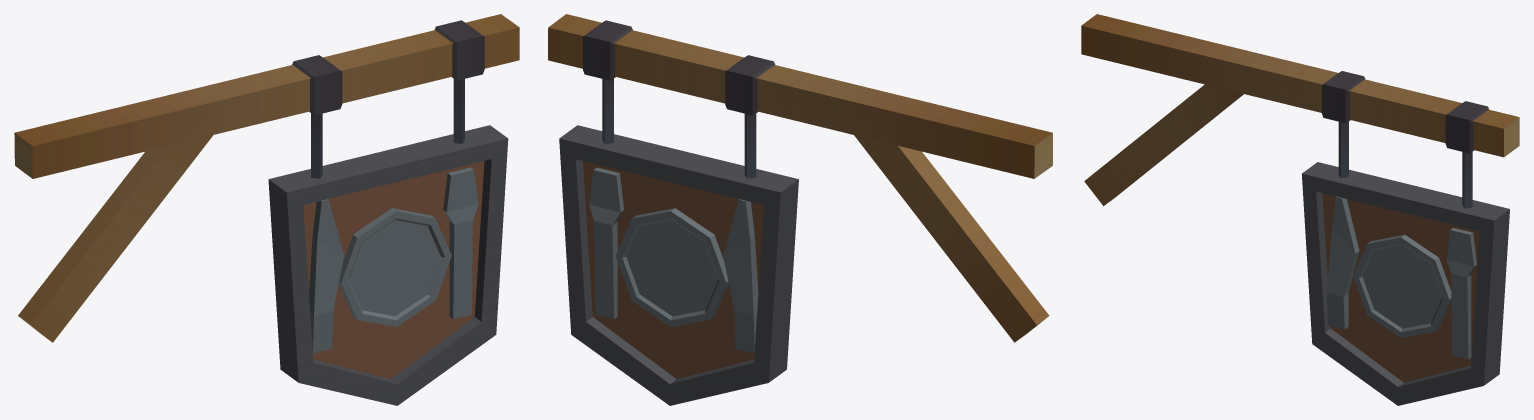
The model's file is SignBoard_4_LOD1.fbx.
3 renders of one model, left to right at view 1: azimuth 30°, elevation 25°; view 2: azimuth 150°, elevation 25°; view 3: azimuth 330°, elevation 25°, orthographic. The views are drawn at different scales.
Visible parts, largest first — view 1: polySurface10650; view 2: polySurface10650; view 3: polySurface10650.
Part boxes in pixels (left/top/right/bottom): polySurface10650: left=14, top=14, right=519, bottom=405; polySurface10650: left=548, top=14, right=1052, bottom=405; polySurface10650: left=1081, top=14, right=1519, bottom=405.
Bounding box in the file's own units: 308 × 212 × 23.29.
